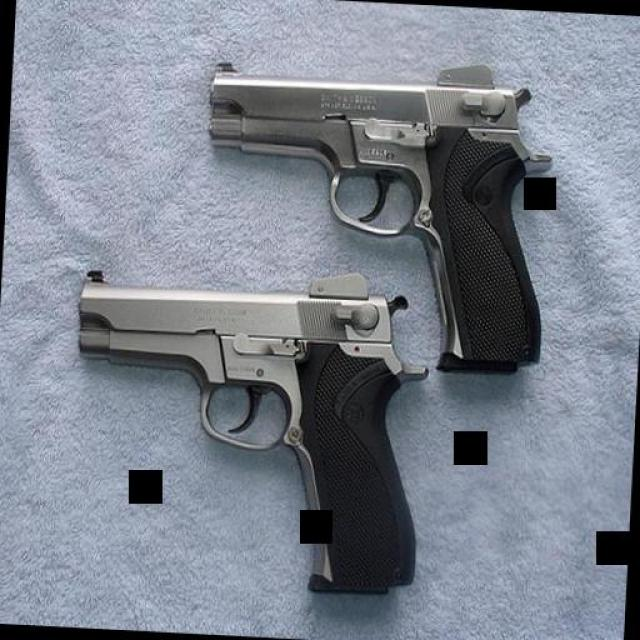gun: (188, 46, 564, 376), (61, 267, 438, 595)
